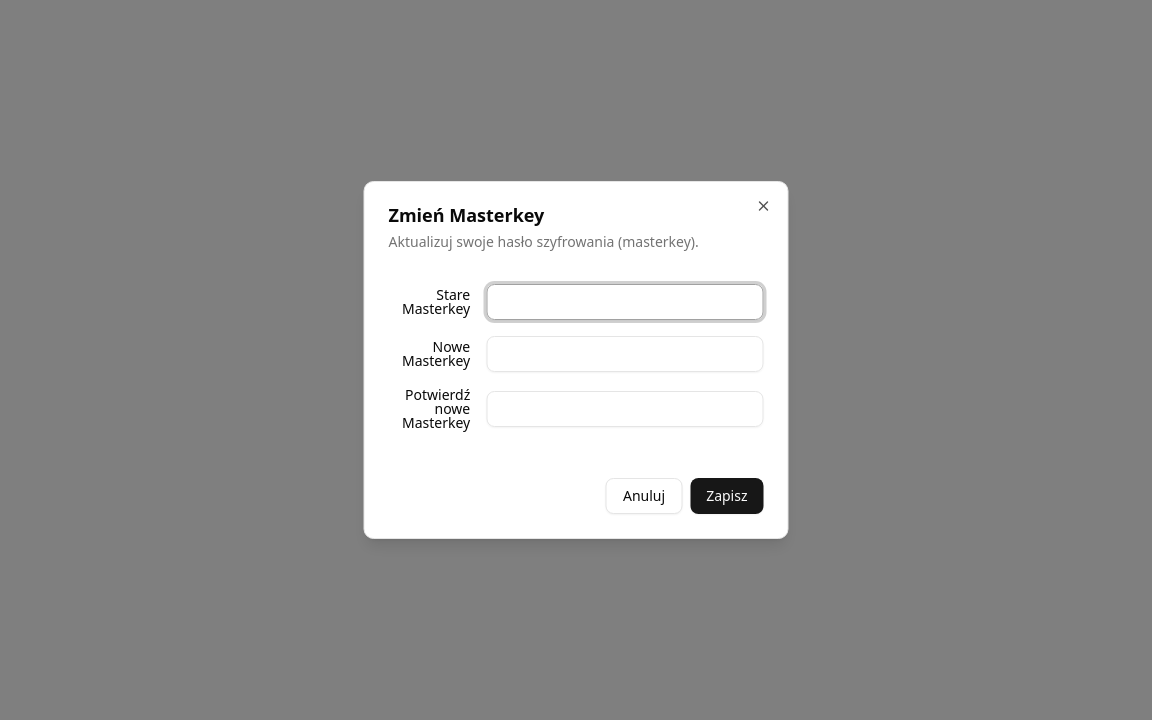
it: Komponent UpdateMasterkeyDialog › wyświetla błąd walidacji, gdy nowe masterkey i potwierdzenie nie są identyczne
Type "oldkey" into the password field labelled "Stare Masterkey" at [625, 302], box [486,284,764,320]
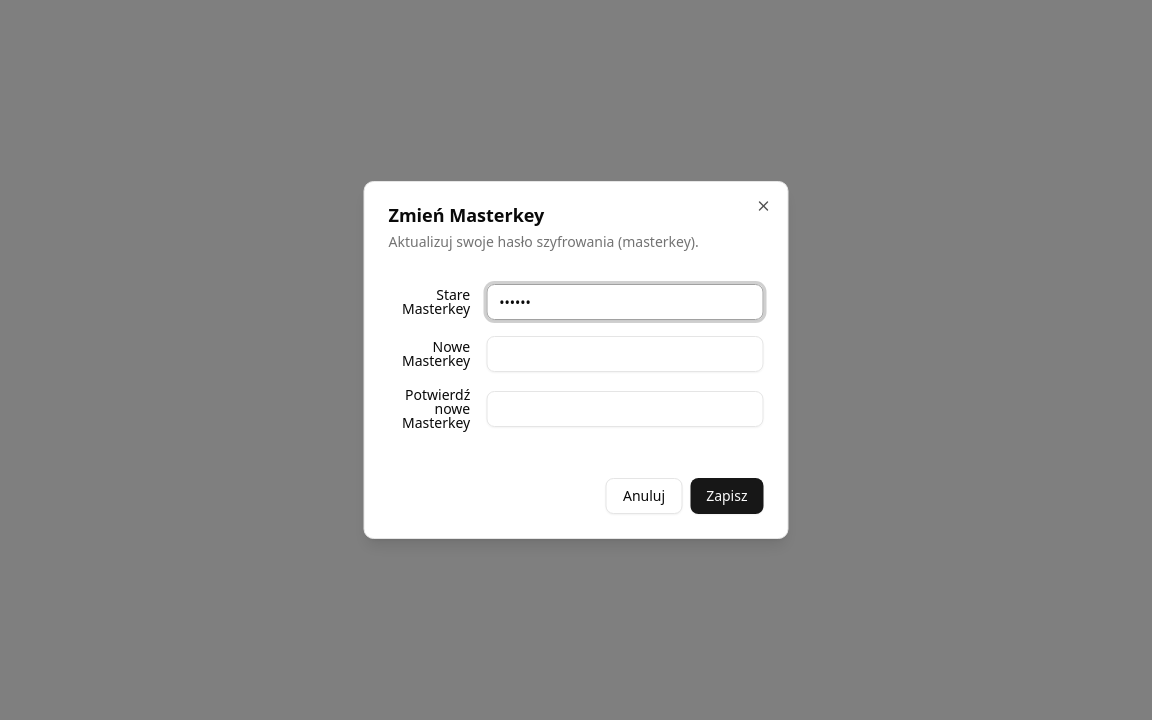
Type "newkey123" into the password field labelled "Nowe Masterkey" at [625, 354], box [486,336,764,372]
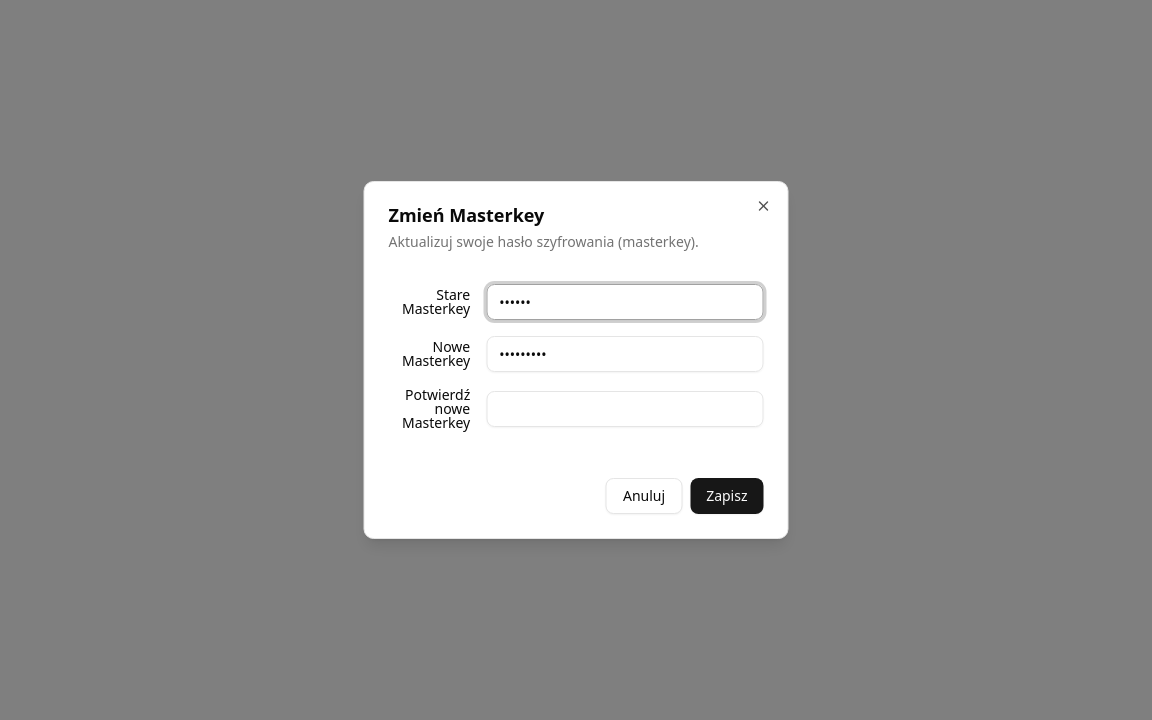
Type "newkey456" into the password field labelled "Potwierdź nowe Masterkey" at [625, 409], box [486,391,764,427]
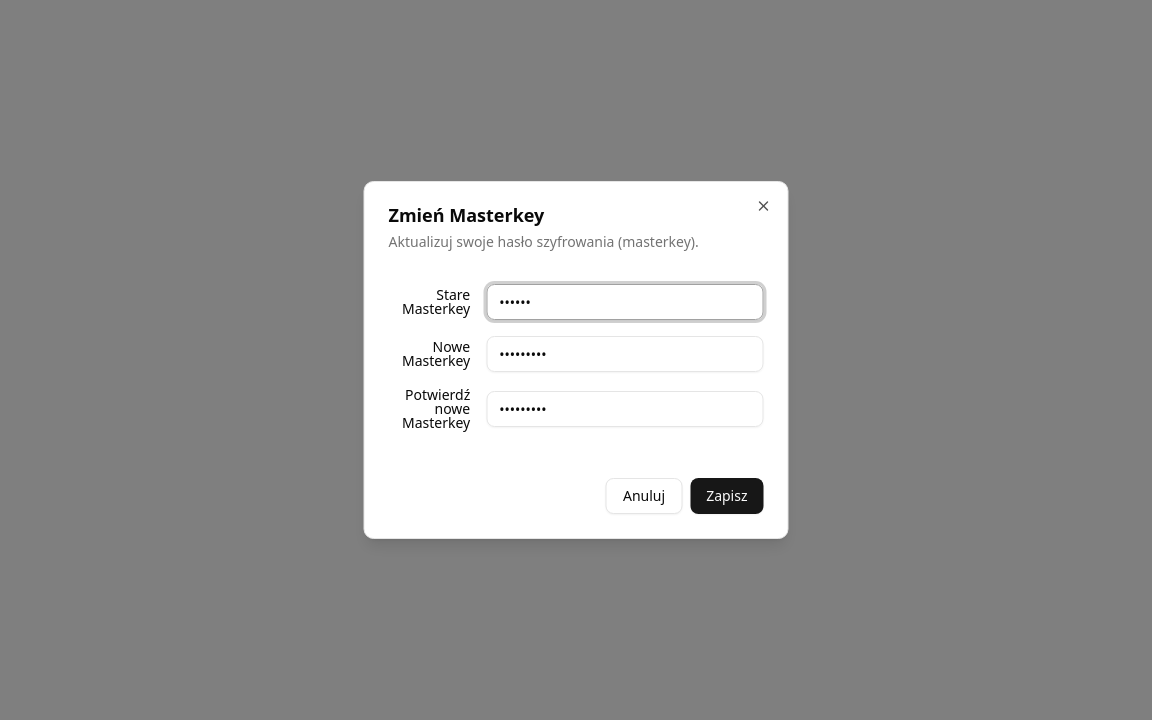
Click the button "Zapisz" at [727, 496], box [690,478,764,514]
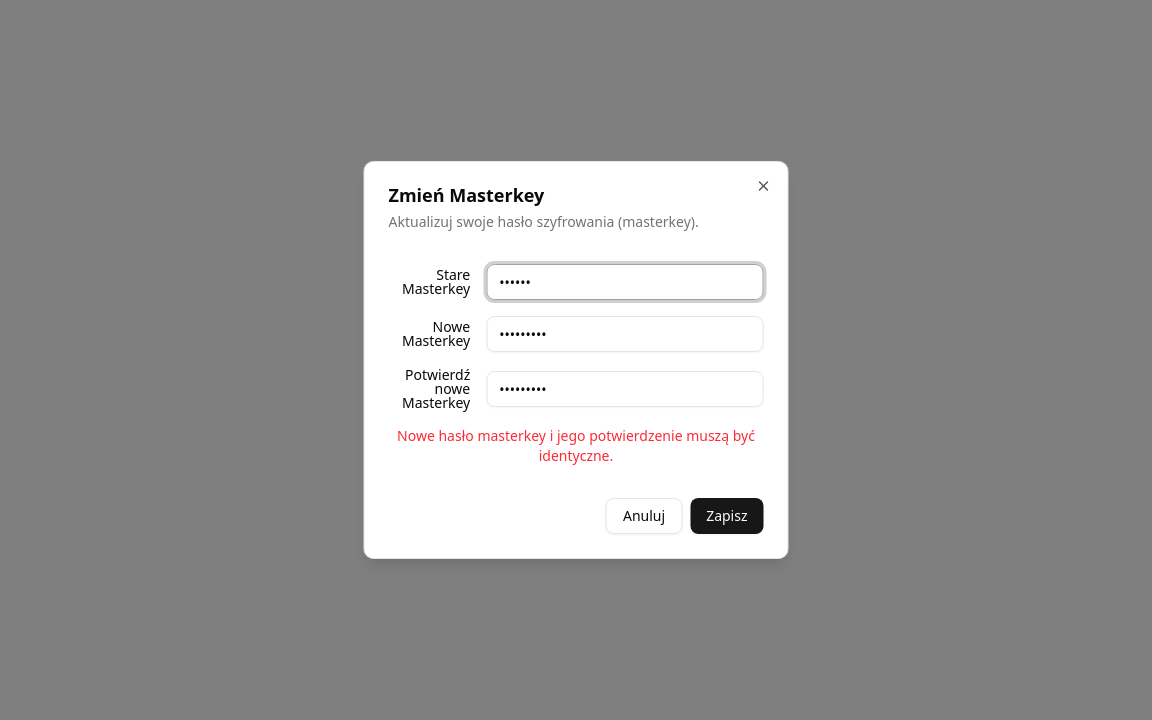
Result: the text "Nowe hasło masterkey i jego potwierdzenie muszą być identyczne" is shown at [397,426,755,465]
